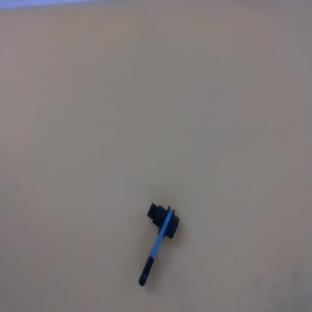part_1_bad: (118, 199, 183, 289)
